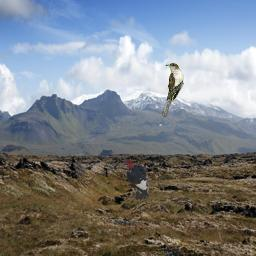Cuckoo: (162, 63, 184, 117)
Woodpecker: (121, 158, 151, 201)
